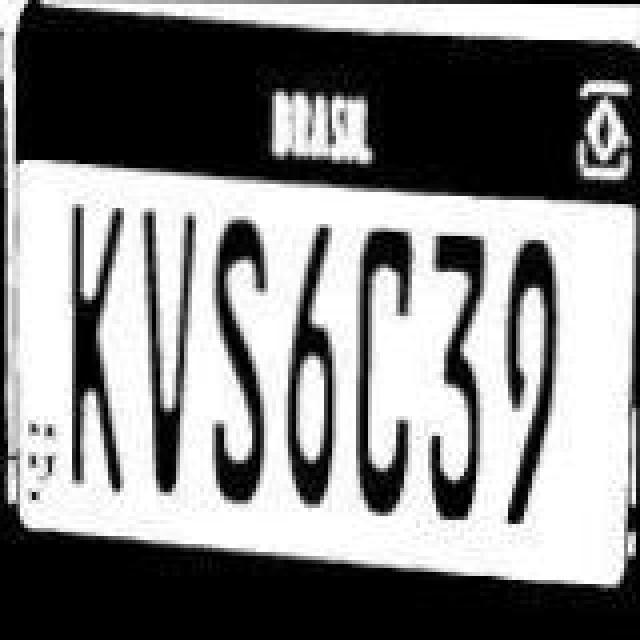3: (422, 218, 486, 522)
6: (286, 214, 342, 510)
9: (498, 214, 562, 530)
C: (352, 216, 428, 516)
K: (66, 208, 138, 504)
S: (210, 220, 282, 520)
V: (142, 214, 206, 502)
